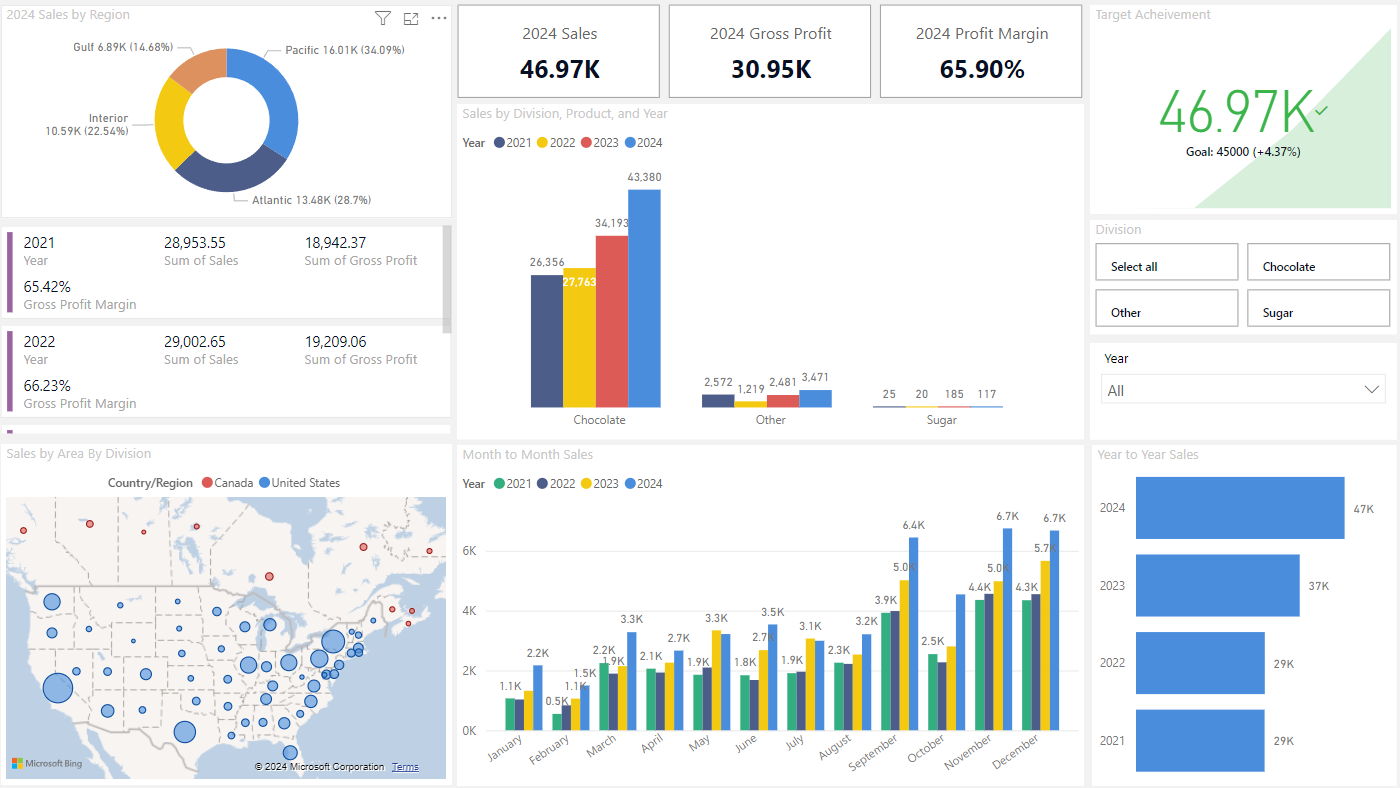

The dashboard page shown, as its layout file describes it:
{"tool":"powerbi","page":{"name":"2024 Target","canvas":[1280,720],"ordinal":1},"visuals":[{"type":"multiRowCard","fields":{"Values":["Candy_Sales.Order Date.Variation.Date Hierarchy.Year","Sum(Candy_Sales.Sales)","Sum(Candy_Sales.Gross Profit)","Candy_Sales.Gross Profit Margin"]},"box":[0,201.2,420,198.8],"z":0},{"type":"donutChart","title":"2024 Sales by Region","fields":{"Category":["Candy_Sales.Region"],"Y":["Sum(Candy_Sales.Sales)"]},"box":[5.5,5.5,410,193.6],"z":1000},{"type":"clusteredColumnChart","title":"Month to Month Sales","fields":{"Y":["Sum(Candy_Sales.Sales)"],"Series":["Candy_Sales.Order Date.Variation.Date Hierarchy.Year"],"Category":["Candy_Sales.Order Date.Variation.Date Hierarchy.Month"]},"box":[420,405.5,570,310],"z":2000},{"type":"clusteredBarChart","title":"Year to Year Sales","fields":{"Category":["Candy_Sales.Order Date.Variation.Date Hierarchy.Year"],"Y":["Sum(Candy_Sales.Sales)"]},"box":[997.5,405,277,310],"z":3000},{"type":"map","title":"Sales by Area By Division","fields":{"Category":["Candy_Sales.State/Province","Candy_Sales.City"],"Size":["Sum(Candy_Sales.Sales)"],"Series":["Candy_Sales.Country/Region"]},"box":[5.5,404.5,410,310],"z":4000},{"type":"advancedSlicerVisual","fields":{"Values":["Candy_Products.Division"]},"box":[995,201.2,278.8,103.8],"z":5000},{"type":"kpi","title":"Target Acheivement","fields":{"Indicator":["Sum(Candy_Sales.Sales)"],"Goal":["Sum(Candy_Targets.Target)"],"TrendLine":["Candy_Sales.Order Date.Variation.Date Hierarchy.Year"]},"box":[995,5,278.8,190],"z":6000},{"type":"slicer","fields":{"Values":["Candy_Sales.Order Date.Variation.Date Hierarchy.Year"]},"box":[995,312.5,278.8,87.5],"z":7000},{"type":"clusteredColumnChart","title":"Sales by Division, Product, and Year","fields":{"Category":["Candy_Products.Division","Candy_Products.Product Name"],"Y":["Sum(Candy_Sales.Sales)"],"Series":["Candy_Sales.Order Date.Variation.Date Hierarchy.Year"]},"box":[420,95.5,570,304.5],"z":8000},{"type":"cardVisual","fields":{"Data":["Sum(Candy_Sales.Sales)","Sum(Candy_Sales.Gross Profit)","Candy_Sales.Gross Profit Margin"]},"box":[415.5,0,580,95.5],"z":9000}]}

Visuals, with their boxes in screenshot pixels (x1, y1, x2, y2), scaled from the page's 1280x720 canvas onto the 1400x788 screenshot:
multiRowCard - Candy_Sales.Order Date.Variation.Date Hierarchy.Year x Sum(Candy_Sales.Sales): BBox(0, 220, 459, 438)
"2024 Sales by Region" donutChart: BBox(6, 6, 454, 218)
"Month to Month Sales" clusteredColumnChart: BBox(459, 444, 1083, 783)
"Year to Year Sales" clusteredBarChart: BBox(1091, 443, 1394, 783)
"Sales by Area By Division" map: BBox(6, 443, 454, 782)
advancedSlicerVisual - Candy_Products.Division: BBox(1088, 220, 1393, 334)
"Target Acheivement" kpi: BBox(1088, 5, 1393, 213)
slicer - Candy_Sales.Order Date.Variation.Date Hierarchy.Year: BBox(1088, 342, 1393, 438)
"Sales by Division, Product, and Year" clusteredColumnChart: BBox(459, 105, 1083, 438)
cardVisual - Sum(Candy_Sales.Sales) x Sum(Candy_Sales.Gross Profit): BBox(454, 0, 1089, 105)
